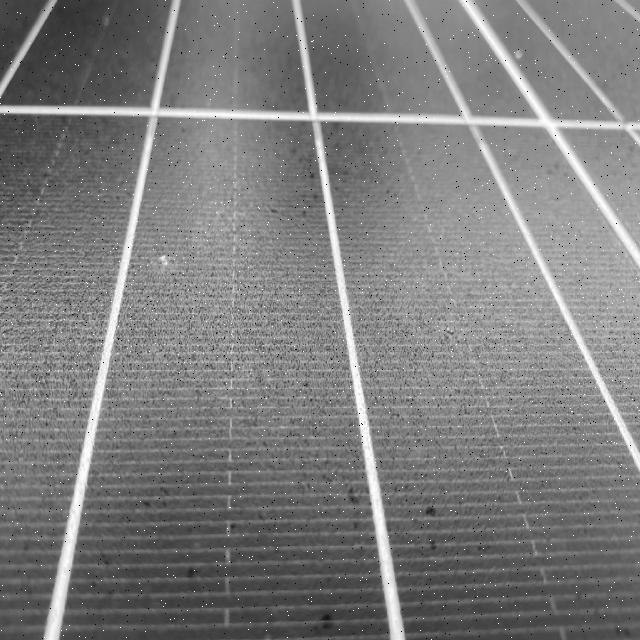dusty: (15, 198, 638, 451)
